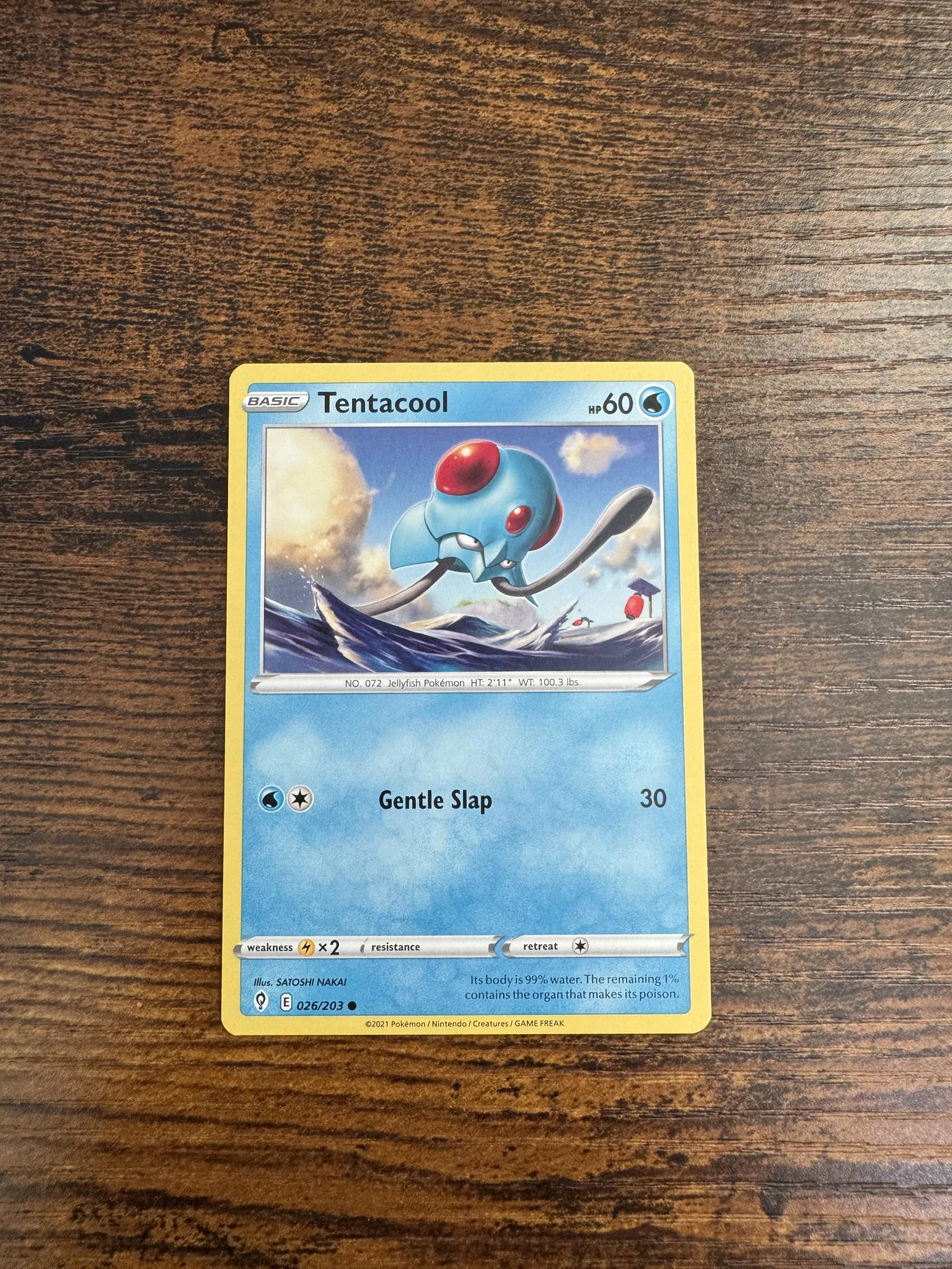card-2UtV: (221, 362, 711, 1035)
